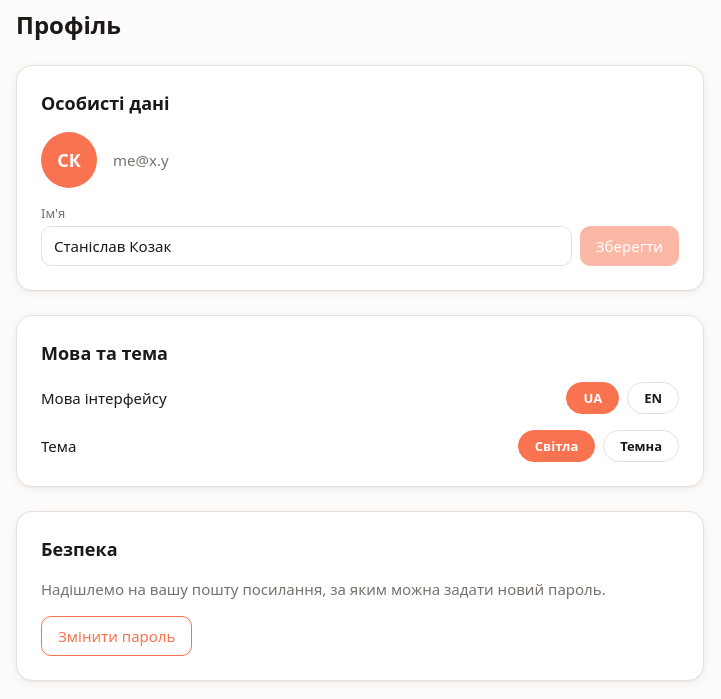
Scenario: ProfilePage › locks the language choice while it is being saved, and ignores the current one
The width and height of the screenshot is (721, 699).
Click the radio button labelled "UA".
click(593, 398)  # box [566,382,619,414]
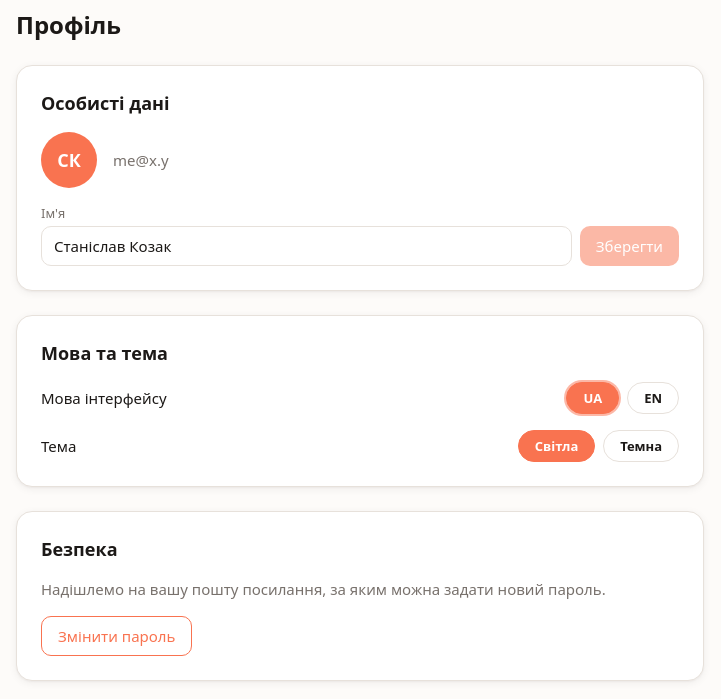
Click the radio button labelled "EN".
click(653, 398)  # box [627,382,679,414]
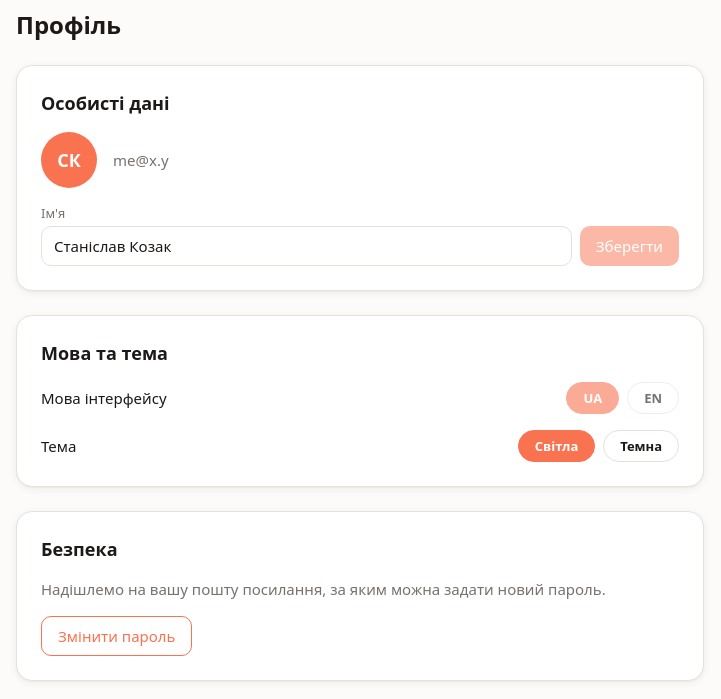
Expected: the radio button labelled "EN" is disabled, [627,382,679,414]
